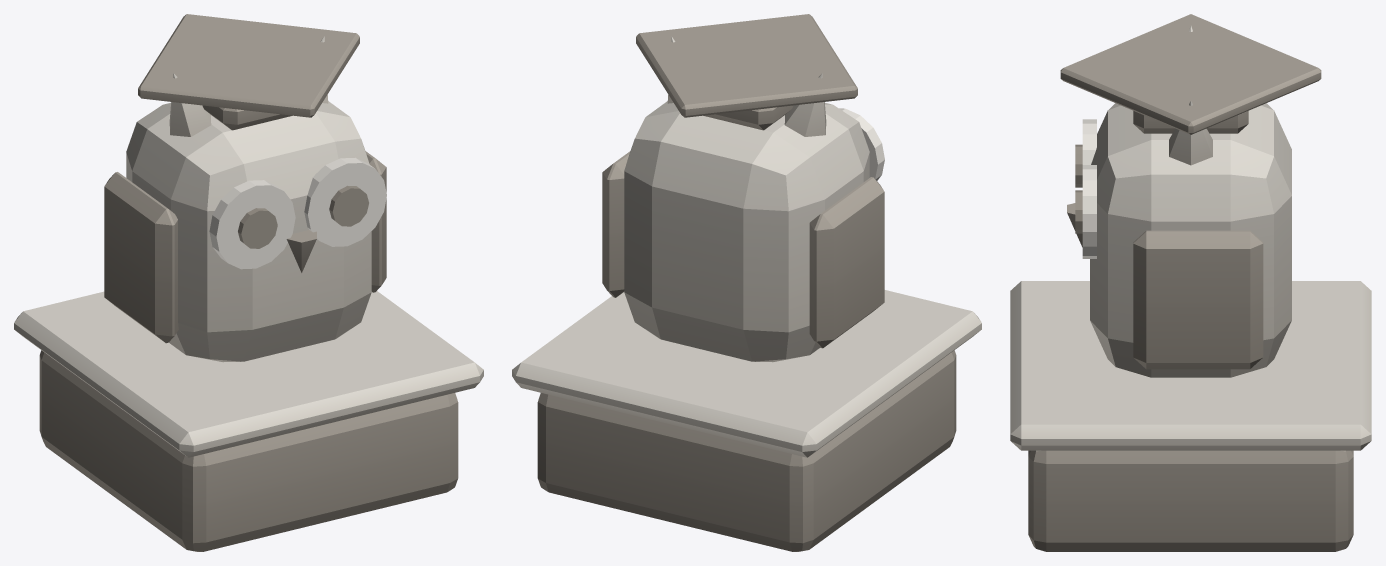
The model's file is statue_owl.glb.
3 views of the same model, side by side, from view 1: azimuth 30°, elevation 25°; view 2: azimuth 150°, elevation 25°; view 3: azimuth 270°, elevation 25° (orthographic). The views are drawn at different scales.
Visible parts, largest first — view 1: owl_statue; view 2: owl_statue; view 3: owl_statue.
Part boxes in pixels (left/top/right/bottom): owl_statue: left=14, top=14, right=483, bottom=551; owl_statue: left=512, top=14, right=981, bottom=551; owl_statue: left=1010, top=14, right=1371, bottom=551.
Bounding box in the file's own units: 1 × 1.31 × 1.
Materials: 1 (1 with a texture image).
